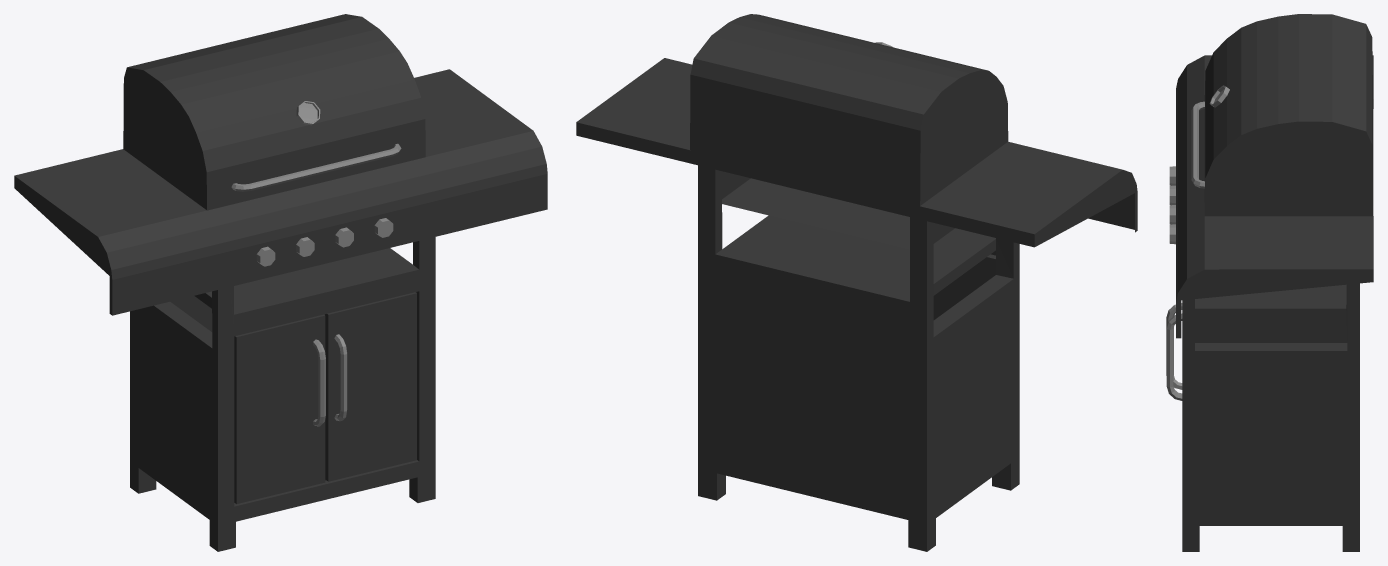
The model's file is Babecue Stove.fbx.
3 views of the same model, side by side, from view 1: azimuth 30°, elevation 25°; view 2: azimuth 150°, elevation 25°; view 3: azimuth 270°, elevation 25° (orthographic). The views are drawn at different scales.
Visible parts, largest first — view 1: Babecue Stove; view 2: Babecue Stove; view 3: Babecue Stove.
Part boxes in pixels (box(x1,y1,x2,y2)): Babecue Stove: box(14, 14, 547, 551); Babecue Stove: box(576, 14, 1137, 551); Babecue Stove: box(1166, 14, 1373, 551).
Bounding box in the file's own units: 151 × 142 × 61.86.
